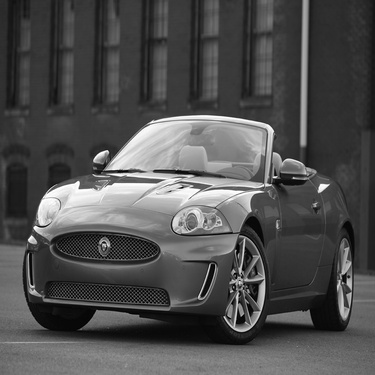car: (5, 120, 355, 336)
